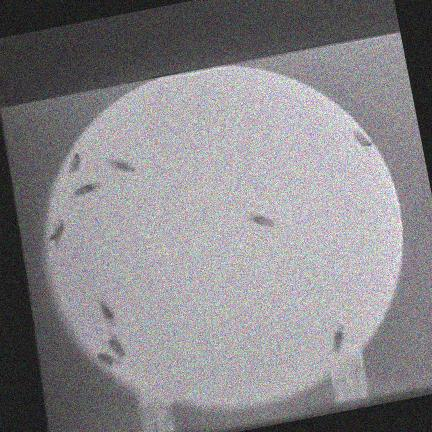fly: (98, 299, 115, 326), (48, 220, 63, 246), (73, 180, 100, 194), (107, 334, 124, 356), (353, 129, 370, 150), (109, 159, 134, 172), (249, 213, 273, 226), (95, 352, 119, 365), (332, 327, 343, 352), (68, 152, 80, 172)
